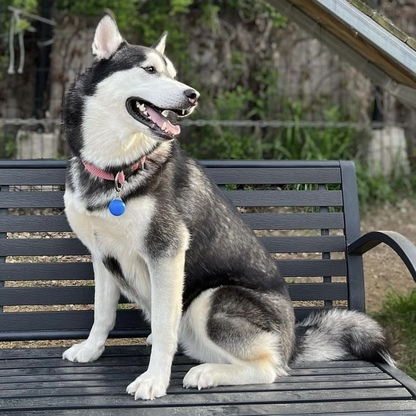husky: (57, 12, 394, 402)
